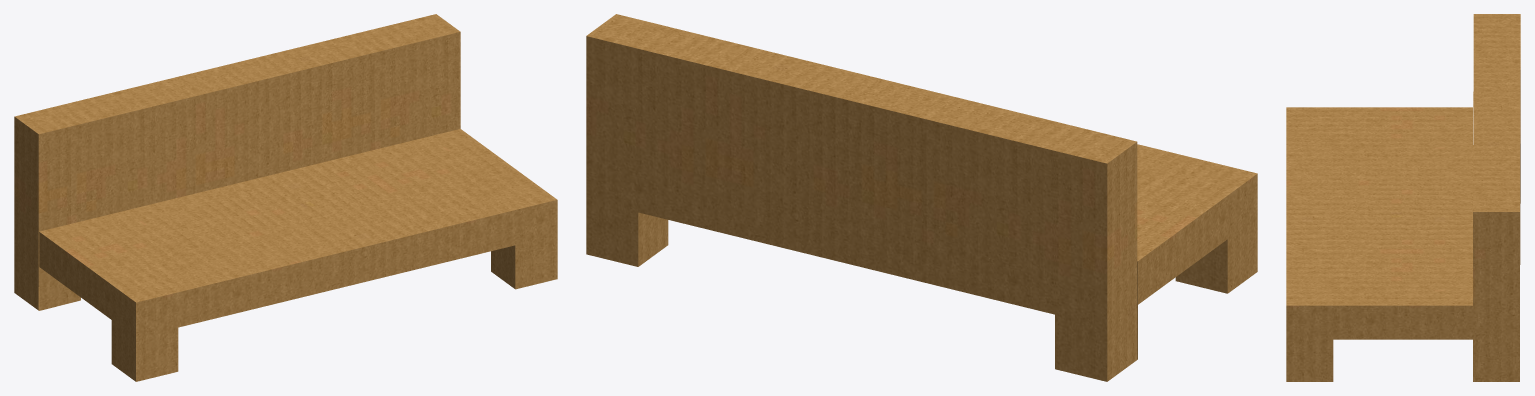
Rendered from couch.dae.
The picture shows the model from 3 angles, left to right: view 1: azimuth 30°, elevation 25°; view 2: azimuth 150°, elevation 25°; view 3: azimuth 270°, elevation 25°; orthographic projection. The views are drawn at different scales.
Parts seen in each view (by area): view 1: couch; view 2: couch; view 3: couch.
Part boxes in pixels (<box>): couch: <box>14,14,557,381</box>; couch: <box>586,14,1257,381</box>; couch: <box>1286,14,1520,381</box>.
Size of the model in its own units: 50 by 25 by 20.
Materials: 1 (1 with a texture image).
